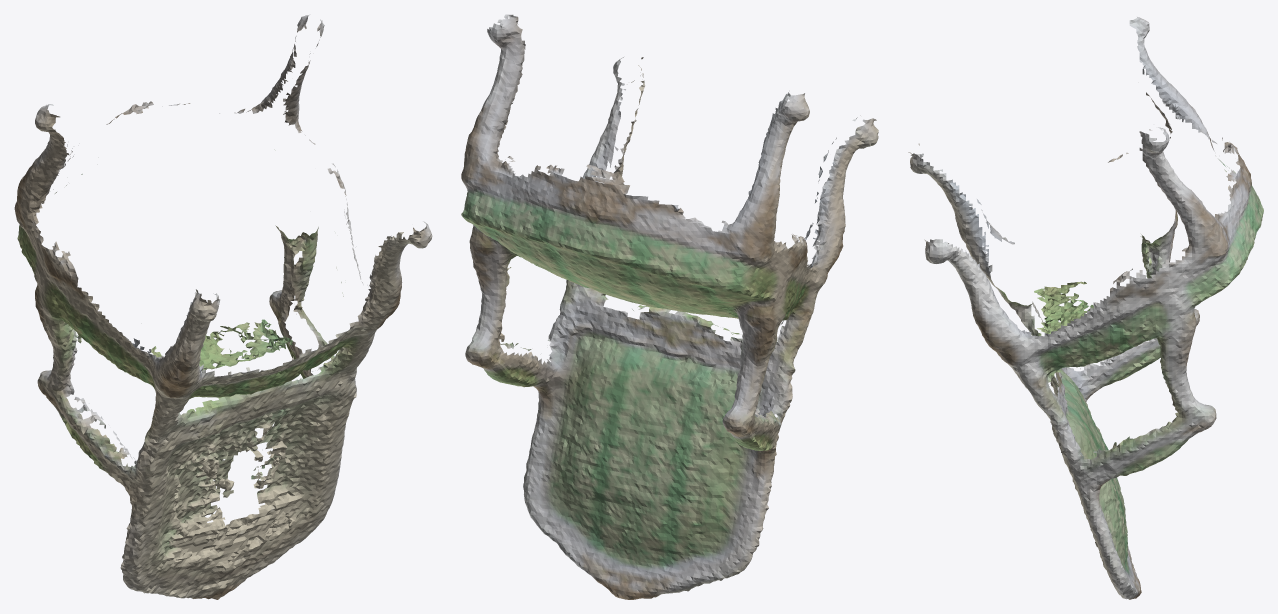
3 views of the same model, side by side, from view 1: azimuth 30°, elevation 25°; view 2: azimuth 150°, elevation 25°; view 3: azimuth 270°, elevation 25° (orthographic). The views are drawn at different scales.
Visible parts, largest first — view 1: geometry_0; view 2: geometry_0; view 3: geometry_0.
Part boxes in pixels (left/top/right/bottom): geometry_0: left=14, top=15, right=432, bottom=599; geometry_0: left=461, top=14, right=878, bottom=599; geometry_0: left=908, top=17, right=1263, bottom=599.
Size of the model in its own units: 1.38 by 2.39 by 1.48.
